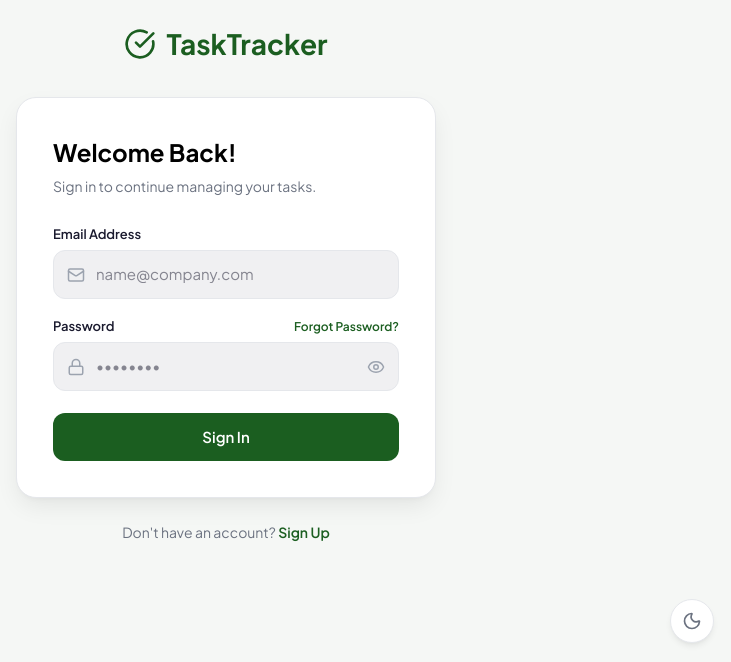
it: LoginForm › shows validation error when password is too short
Type "test@test.com" into the field labelled "Email Address". click: (226, 275)
box: left=53, top=250, right=399, bottom=299
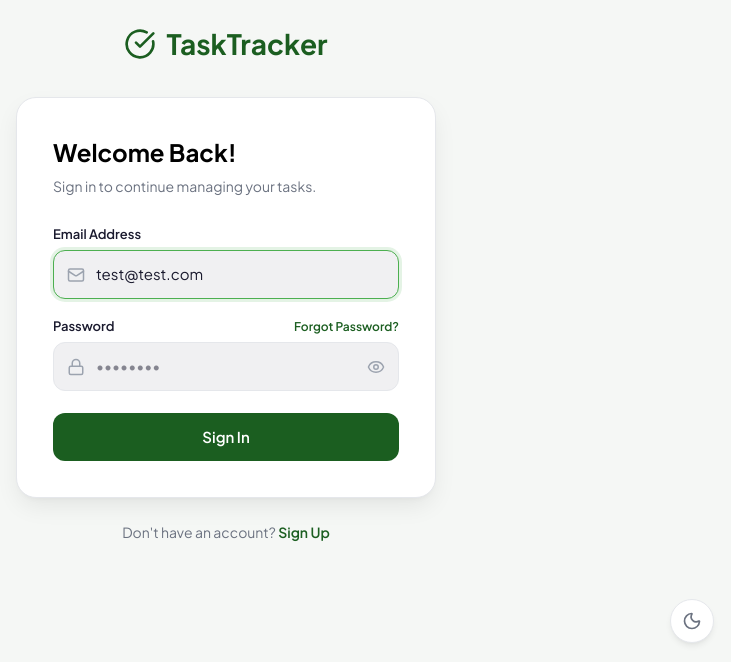
Type "12345" into the password field labelled "Password". click: (226, 367)
box: left=53, top=342, right=399, bottom=391
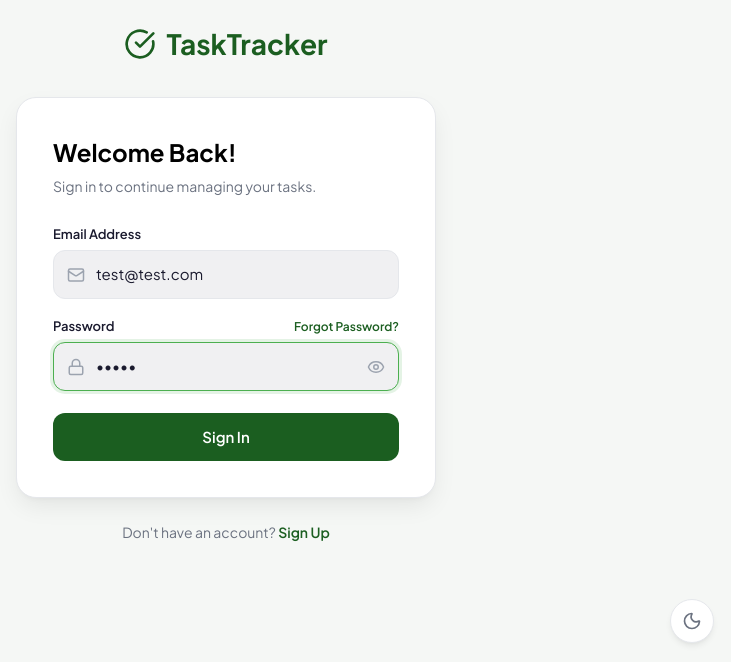
Click the button "Sign In". click: (226, 437)
box: left=53, top=413, right=399, bottom=461
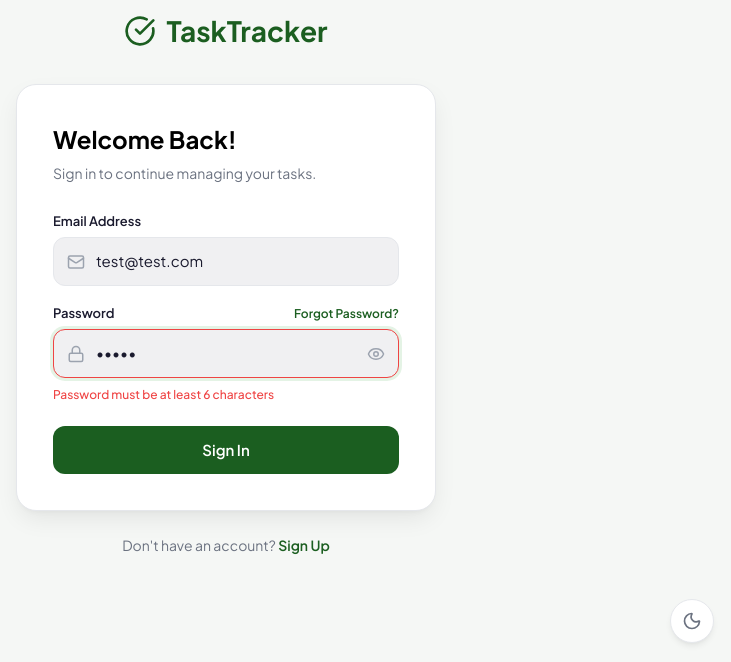
Expected: the text "Password must be at least 6 characters" is shown, left=53, top=387, right=274, bottom=402
